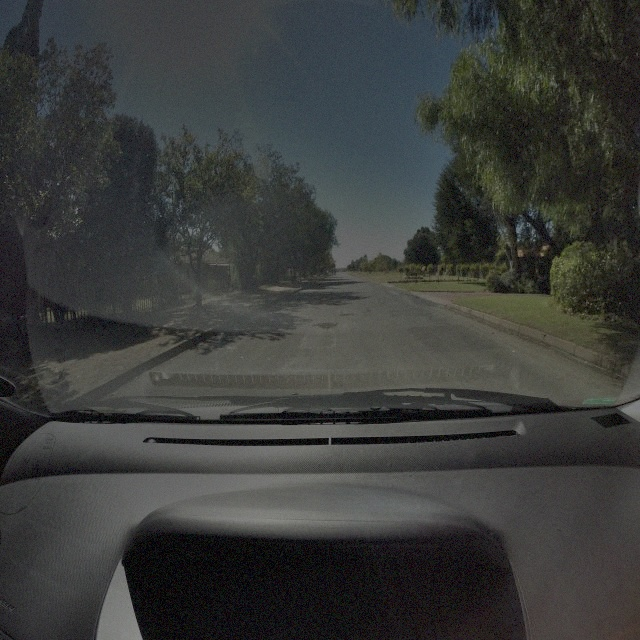pothole: (314, 320, 336, 330), (340, 312, 356, 318)
